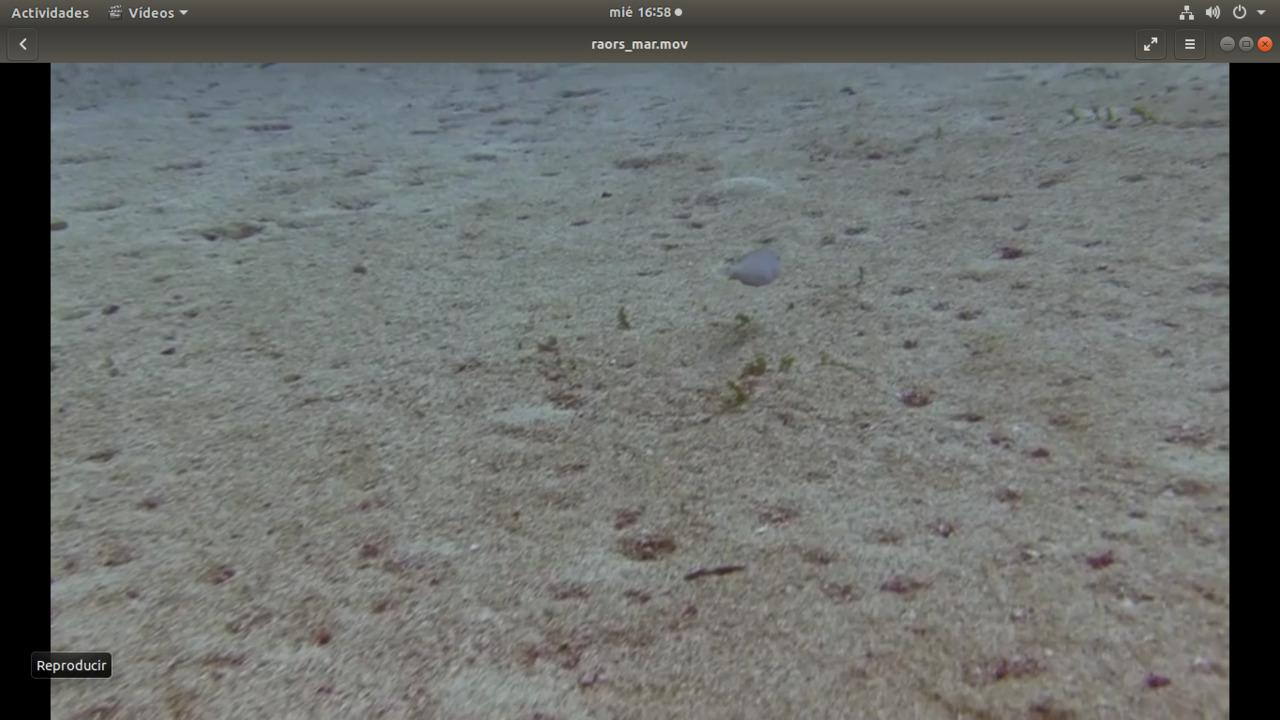raor: (717, 228, 793, 292)
